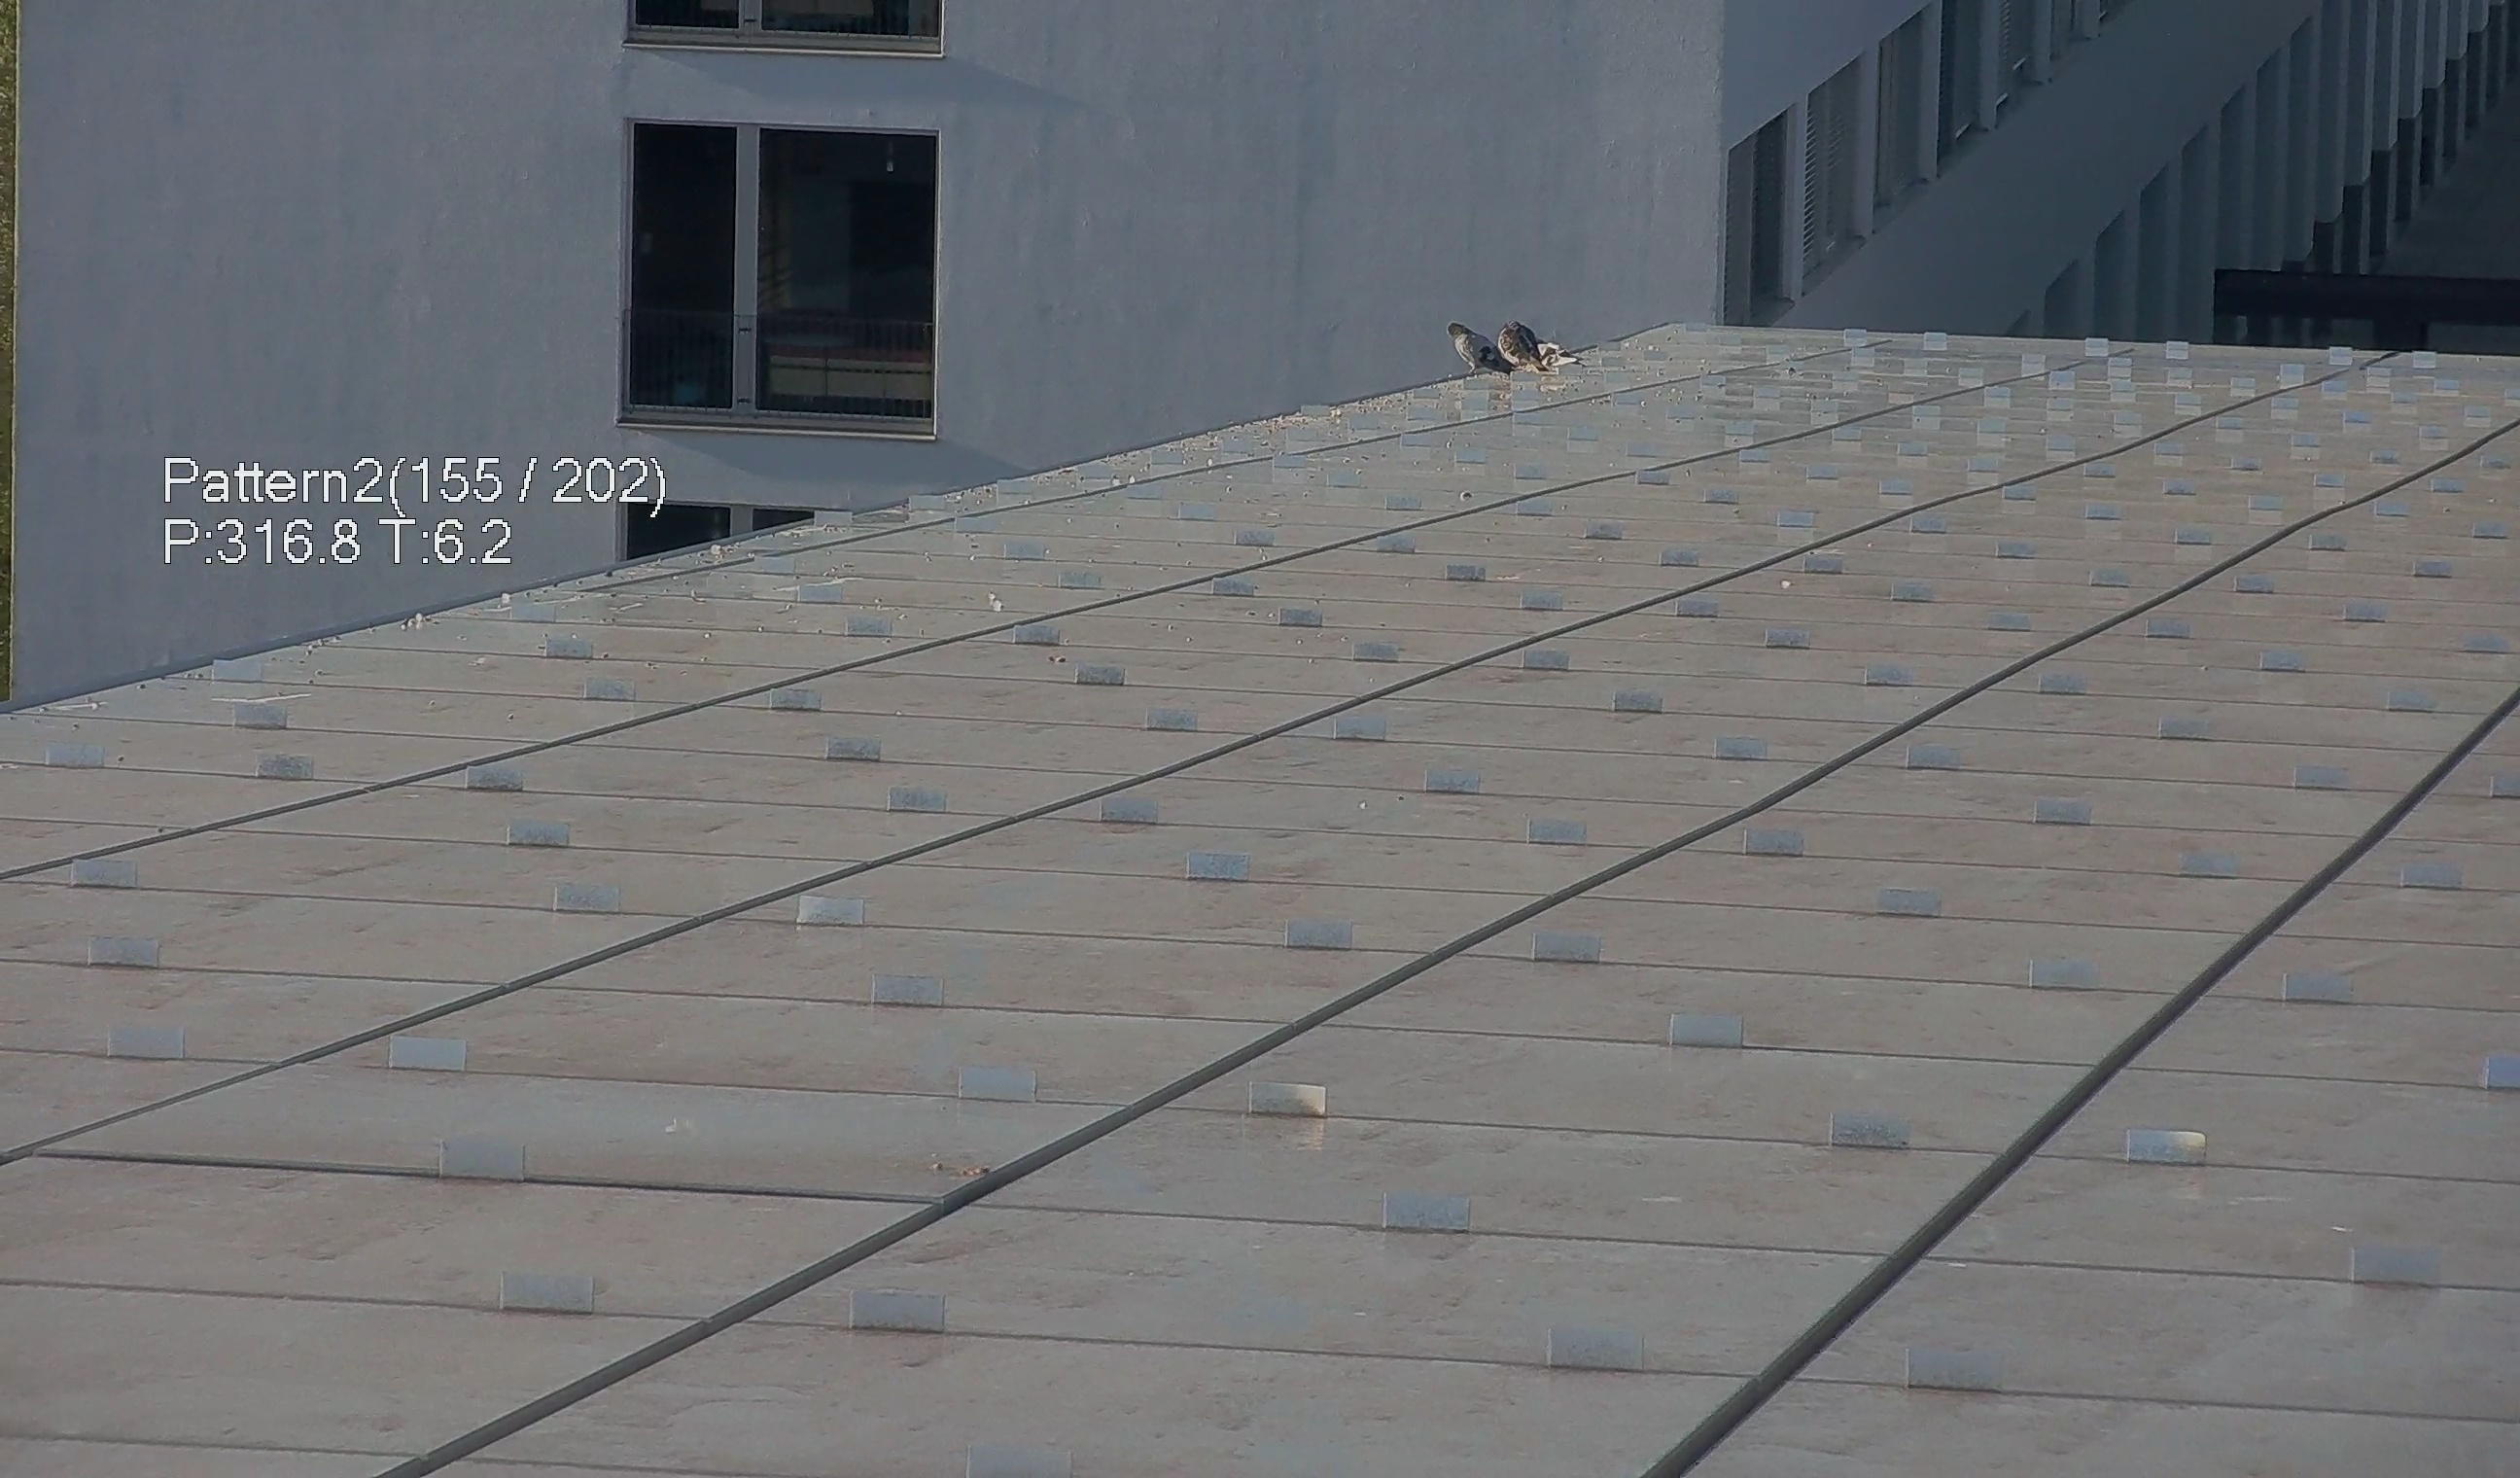Pigeon: (1489, 310, 1588, 380), (1440, 318, 1523, 382)
